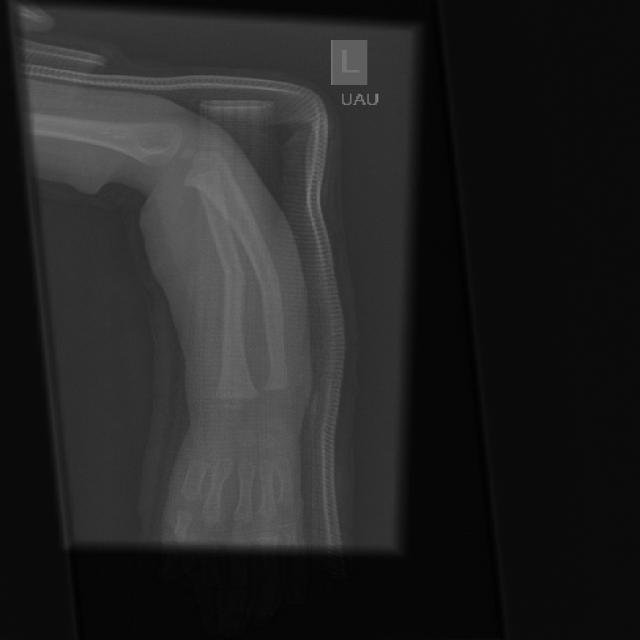forearm fracture: (197, 250, 267, 323)
